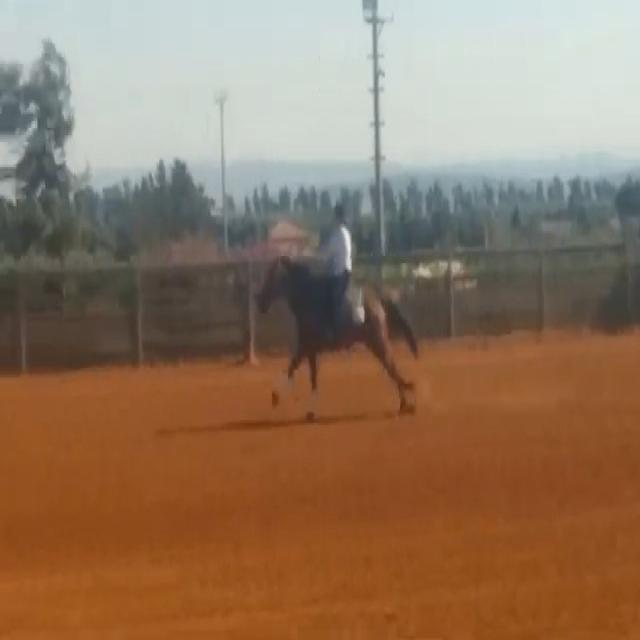horse: (251, 249, 422, 419)
